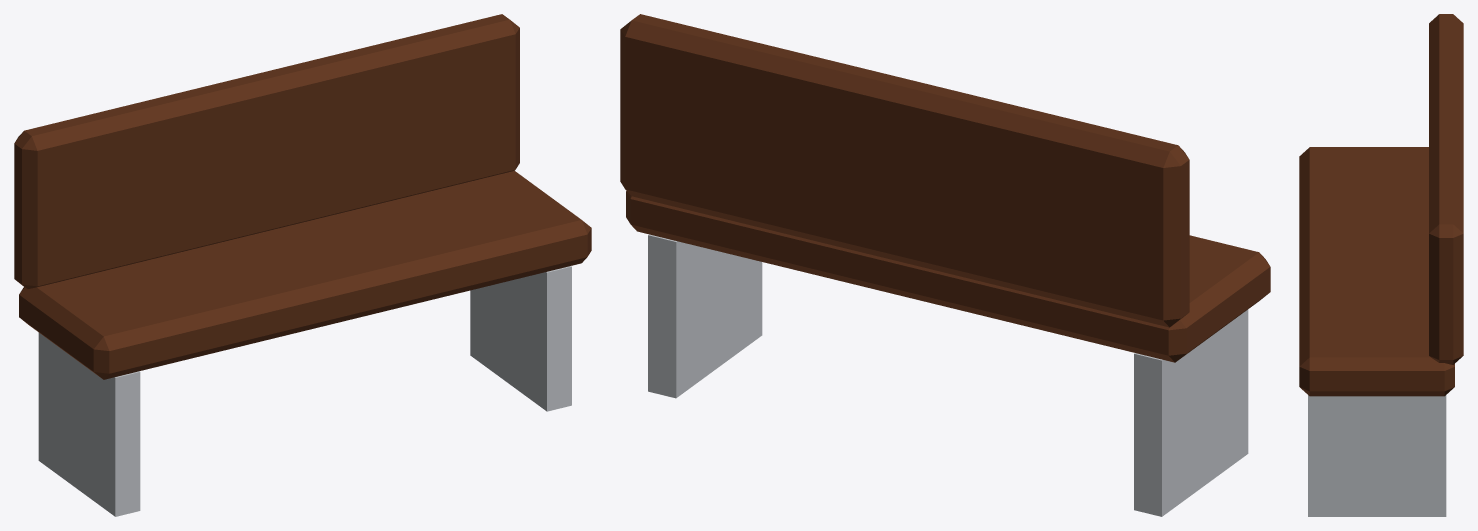
The model's file is LobbyBench.fbx.
3 views of the same model, side by side, from view 1: azimuth 30°, elevation 25°; view 2: azimuth 150°, elevation 25°; view 3: azimuth 270°, elevation 25° (orthographic). The views are drawn at different scales.
Parts seen in each view (by area): view 1: LobbyBench; view 2: LobbyBench; view 3: LobbyBench.
Boxes of the visible parts, x1,y1,x2,y2 form: LobbyBench: (14, 14, 591, 516); LobbyBench: (620, 14, 1270, 516); LobbyBench: (1299, 14, 1463, 516).
Bounding box in the file's own units: 6 × 3.8 × 1.9.
Materials: 1 (1 with a texture image).
